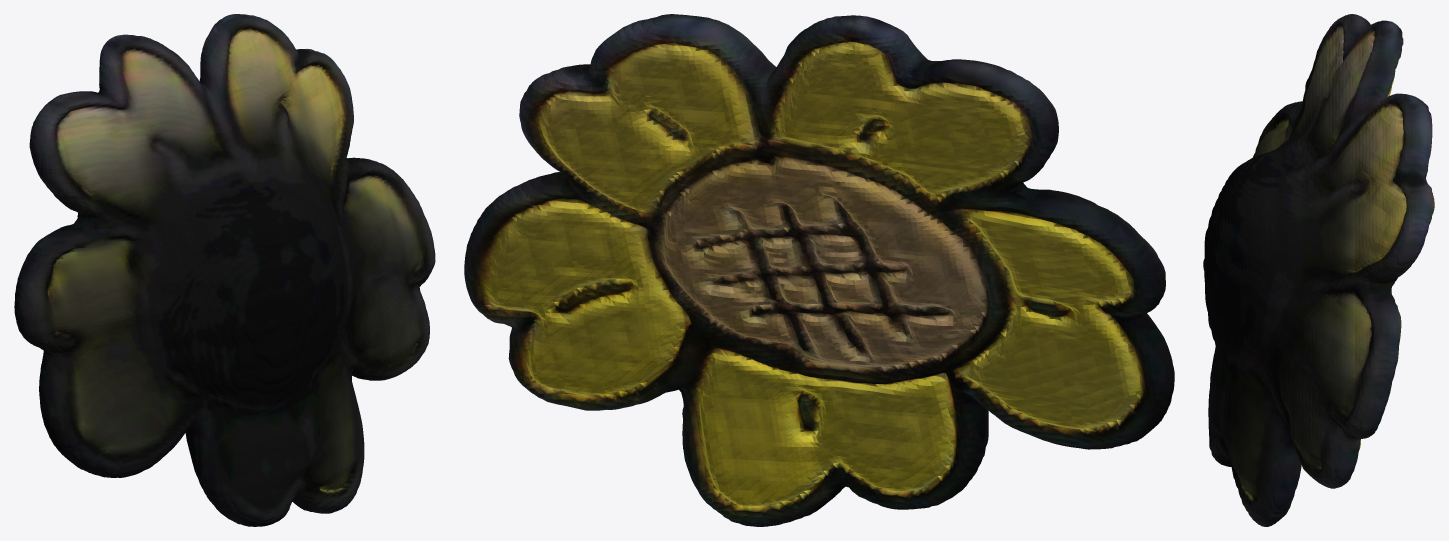
The picture shows the model from 3 angles, left to right: view 1: azimuth 30°, elevation 25°; view 2: azimuth 150°, elevation 25°; view 3: azimuth 270°, elevation 25°; orthographic projection. The views are drawn at different scales.
Visible parts, largest first — view 1: world; view 2: world; view 3: world.
Part boxes in pixels (box(x1,y1,x2,y2)): world: box(14, 14, 435, 526); world: box(464, 14, 1174, 526); world: box(1203, 14, 1434, 526).
Size of the model in its own units: 1.03 by 0.9716 by 0.4719.
